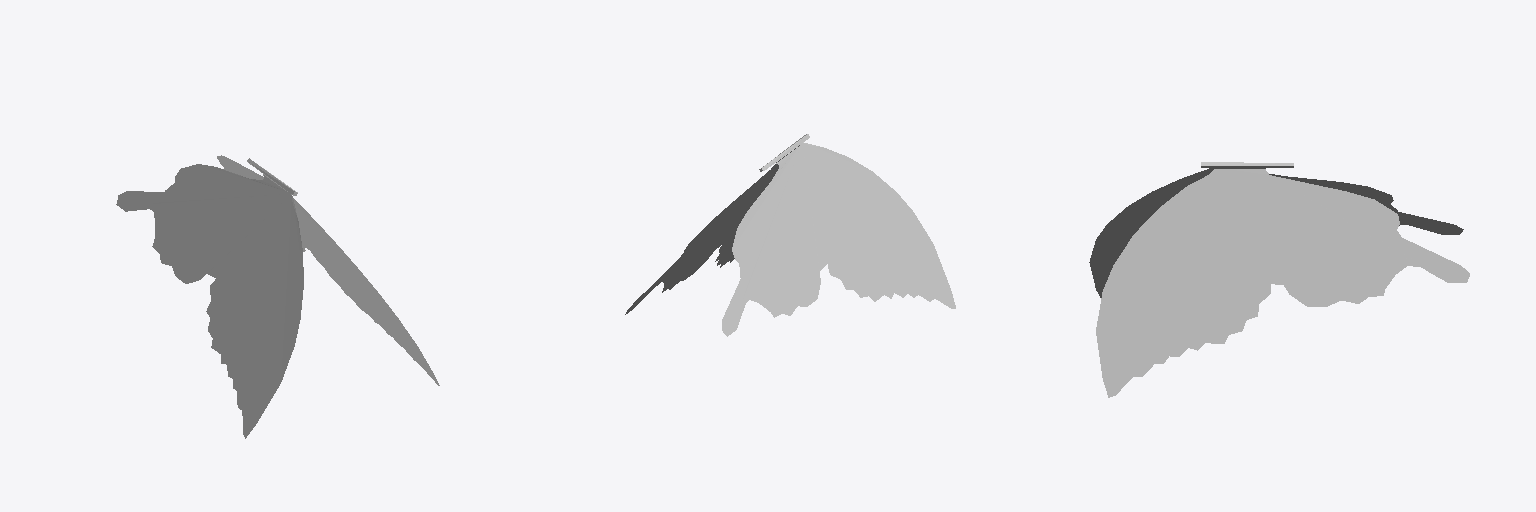
File: mob_15.obj
The picture shows the model from 3 angles: view 1: azimuth 30°, elevation 25°; view 2: azimuth 150°, elevation 25°; view 3: azimuth 270°, elevation 25°; orthographic projection.
Parts seen in each view (by area): view 1: Cube; view 2: Cube; view 3: Cube.
Boxes of the visible parts, x1,y1,x2,y2 form: Cube: [116, 155, 439, 438]; Cube: [625, 134, 955, 336]; Cube: [1089, 162, 1469, 397].
Bounding box in the file's own units: 1.18 × 1.06 × 1.96.